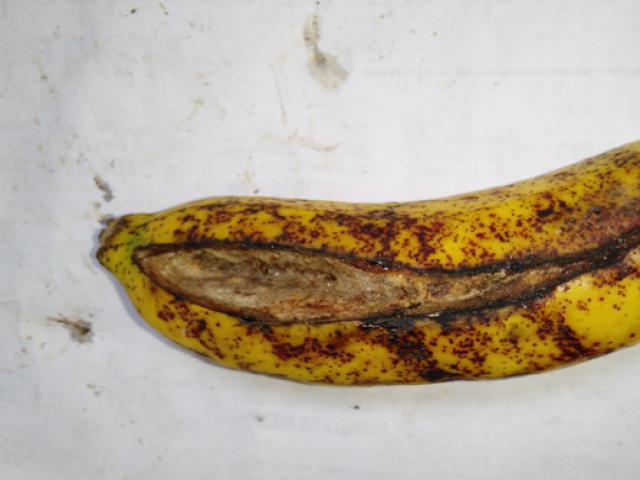rotten: (121, 188, 639, 402)
